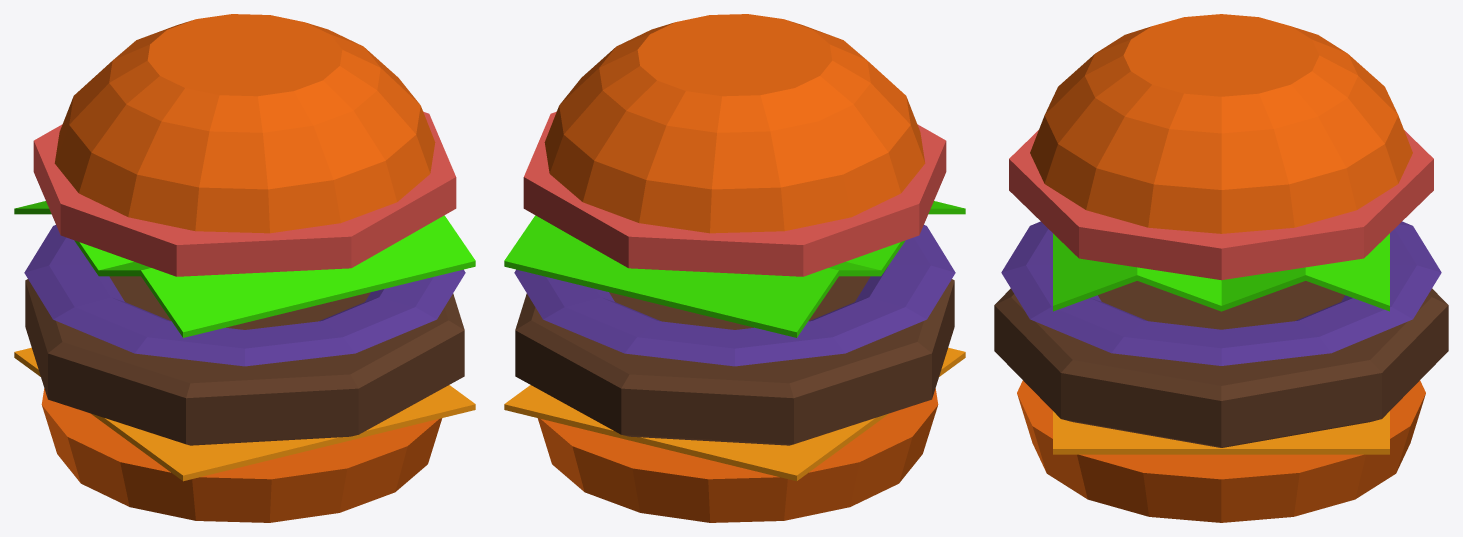
The model's file is Burger.fbx.
The picture shows the model from 3 angles, left to right: view 1: azimuth 30°, elevation 25°; view 2: azimuth 150°, elevation 25°; view 3: azimuth 270°, elevation 25°; orthographic projection.
Visible parts, largest first — view 1: Pan de arriba, carne, Pan de abajo, tomate, aro cebolla, Lechuga, Queso; view 2: Pan de arriba, carne, Pan de abajo, tomate, aro cebolla, Lechuga, Queso; view 3: Pan de arriba, carne, Pan de abajo, aro cebolla, tomate, Lechuga, Queso.
Part boxes in pixels (x1,y1,x2,y2): Pan de arriba: (54,14,435,233); carne: (25,276,464,445); Pan de abajo: (41,388,442,522); tomate: (33,111,456,276); aro cebolla: (24,225,465,366); Lechuga: (14,201,475,337); Queso: (14,347,475,481); Pan de arriba: (544,14,925,233); carne: (515,276,954,445); Pan de abajo: (537,388,938,522); tomate: (523,111,946,276); aro cebolla: (514,225,955,366); Lechuga: (504,201,965,337); Queso: (504,347,965,481); Pan de arriba: (1030,14,1412,233); carne: (994,281,1448,447); Pan de abajo: (1017,380,1425,522); aro cebolla: (1001,221,1441,365); tomate: (1009,130,1433,280); Lechuga: (1053,233,1389,311); Queso: (1053,411,1389,454).
Bounding box in the file's own units: 0.2153 × 0.2108 × 0.2153.
